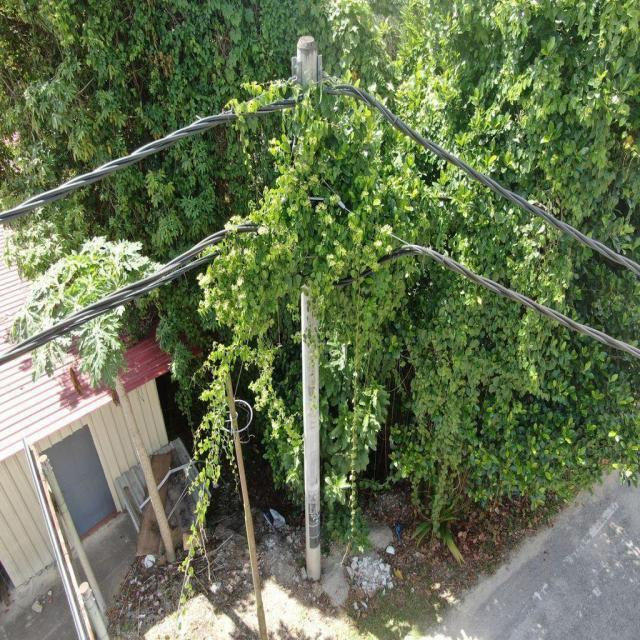critical vegetation: (172, 62, 404, 580)
